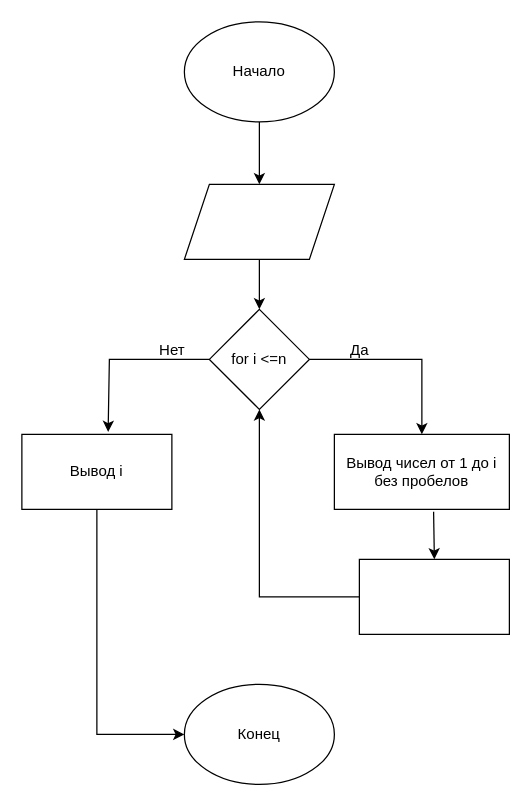
The diagram is 531 pixels wide and 806 high, and some of its shapes have lost their labels. Here are the shapes that lost their labels. From the top down, the centre of each, then its label:
At (x=258, y=221): "Ввод i".
At (x=433, y=596): "i+1".
